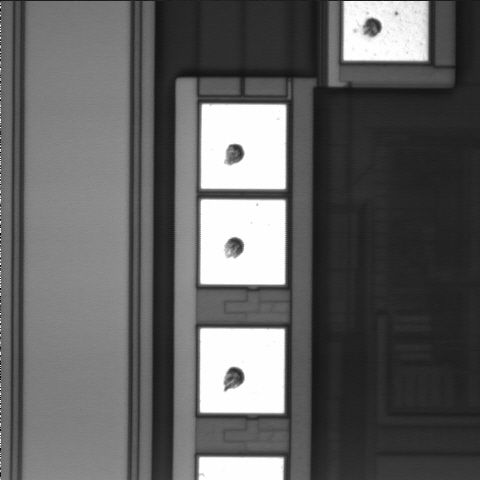pad: (200, 199, 285, 285), (201, 104, 286, 189), (200, 328, 285, 413)
